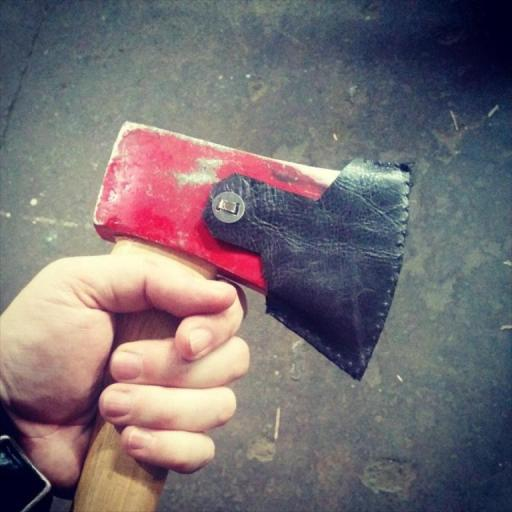Axe: (93, 118, 411, 512)
